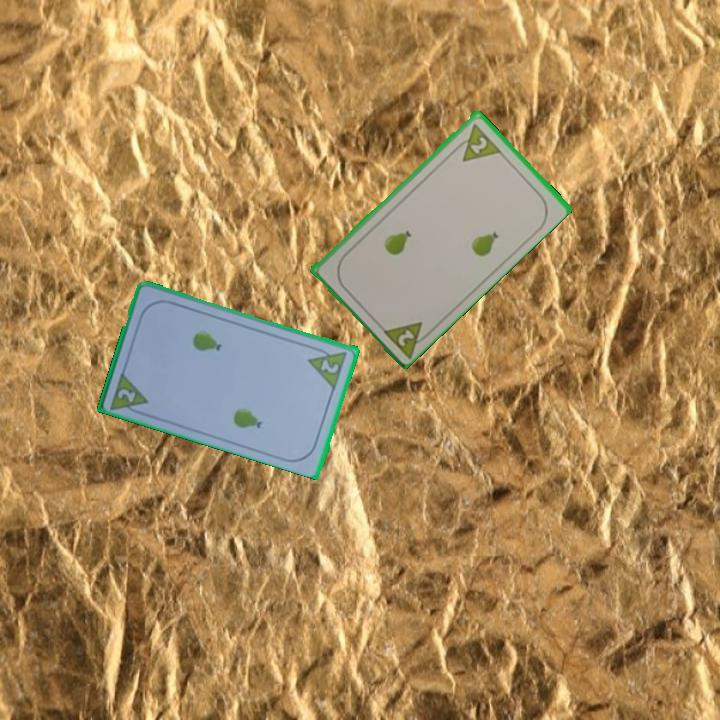2p: (378, 317, 435, 360), (450, 119, 503, 164), (107, 367, 151, 418), (317, 356, 342, 376)
